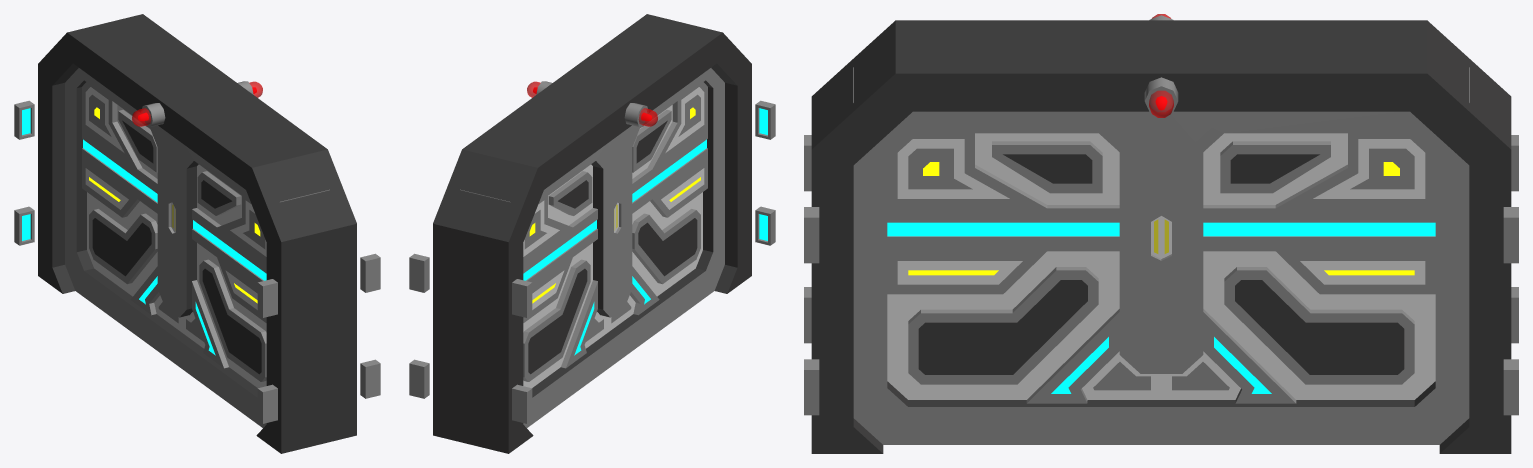
Rendered from door_bigger.fbx.
The picture shows the model from 3 angles, left to right: view 1: azimuth 30°, elevation 25°; view 2: azimuth 150°, elevation 25°; view 3: azimuth 270°, elevation 25°; orthographic projection. The views are drawn at different scales.
Visible parts, largest first — view 1: Cube (5).003, Cube (5).015, Cube (5).016, Cube.078, Cylinder.075; view 2: Cube (5).003, Cube (5).016, Cube (5).015, Cube.078, Cylinder.075; view 3: Cube (5).015, Cube (5).016, Cube (5).003, Cube.078, Cylinder.075.
Boxes of the visible parts, bbox=[...] form: Cube (5).003: bbox=[38, 14, 356, 453]; Cube (5).015: bbox=[65, 68, 182, 361]; Cube (5).016: bbox=[172, 136, 329, 427]; Cube.078: bbox=[14, 100, 380, 423]; Cylinder.075: bbox=[132, 81, 262, 126]; Cube (5).003: bbox=[433, 14, 751, 453]; Cube (5).016: bbox=[607, 68, 724, 361]; Cube (5).015: bbox=[460, 136, 617, 427]; Cube.078: bbox=[409, 100, 775, 423]; Cylinder.075: bbox=[527, 81, 657, 126]; Cube (5).015: bbox=[1161, 67, 1469, 444]; Cube (5).016: bbox=[853, 67, 1161, 444]; Cube (5).003: bbox=[811, 20, 1511, 453]; Cube.078: bbox=[804, 135, 1518, 415]; Cylinder.075: bbox=[1144, 14, 1178, 117].
Bounding box in the file's own units: 12.24 × 24 × 40.86.
